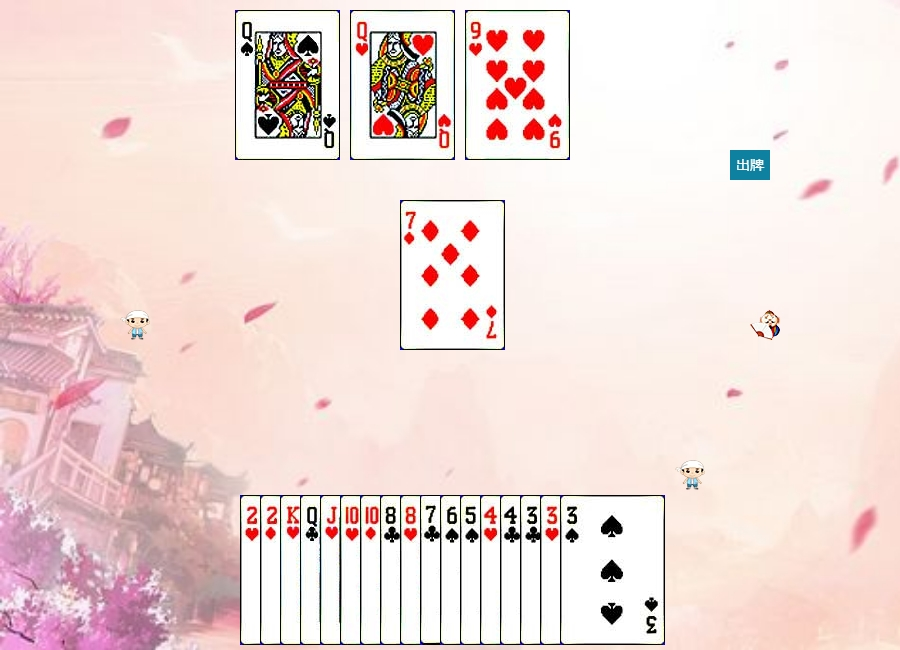10~1: (360, 495, 465, 645)
10~3: (340, 495, 445, 645)
11~3: (320, 495, 425, 645)
12~2: (300, 495, 405, 645)
12~3: (350, 10, 455, 160)
12~4: (235, 10, 340, 160)
13~3: (280, 495, 385, 645)
15~1: (260, 495, 365, 645)
15~3: (240, 495, 345, 645)
3~2: (520, 495, 625, 645)
3~3: (540, 495, 645, 645)
3~4: (560, 495, 665, 645)
4~2: (500, 495, 605, 645)
4~3: (480, 495, 585, 645)
5~4: (460, 495, 565, 645)
6~4: (440, 495, 545, 645)
7~1: (400, 200, 505, 350)
7~2: (420, 495, 525, 645)
8~2: (380, 495, 485, 645)
8~3: (400, 495, 505, 645)
9~3: (465, 10, 570, 160)
